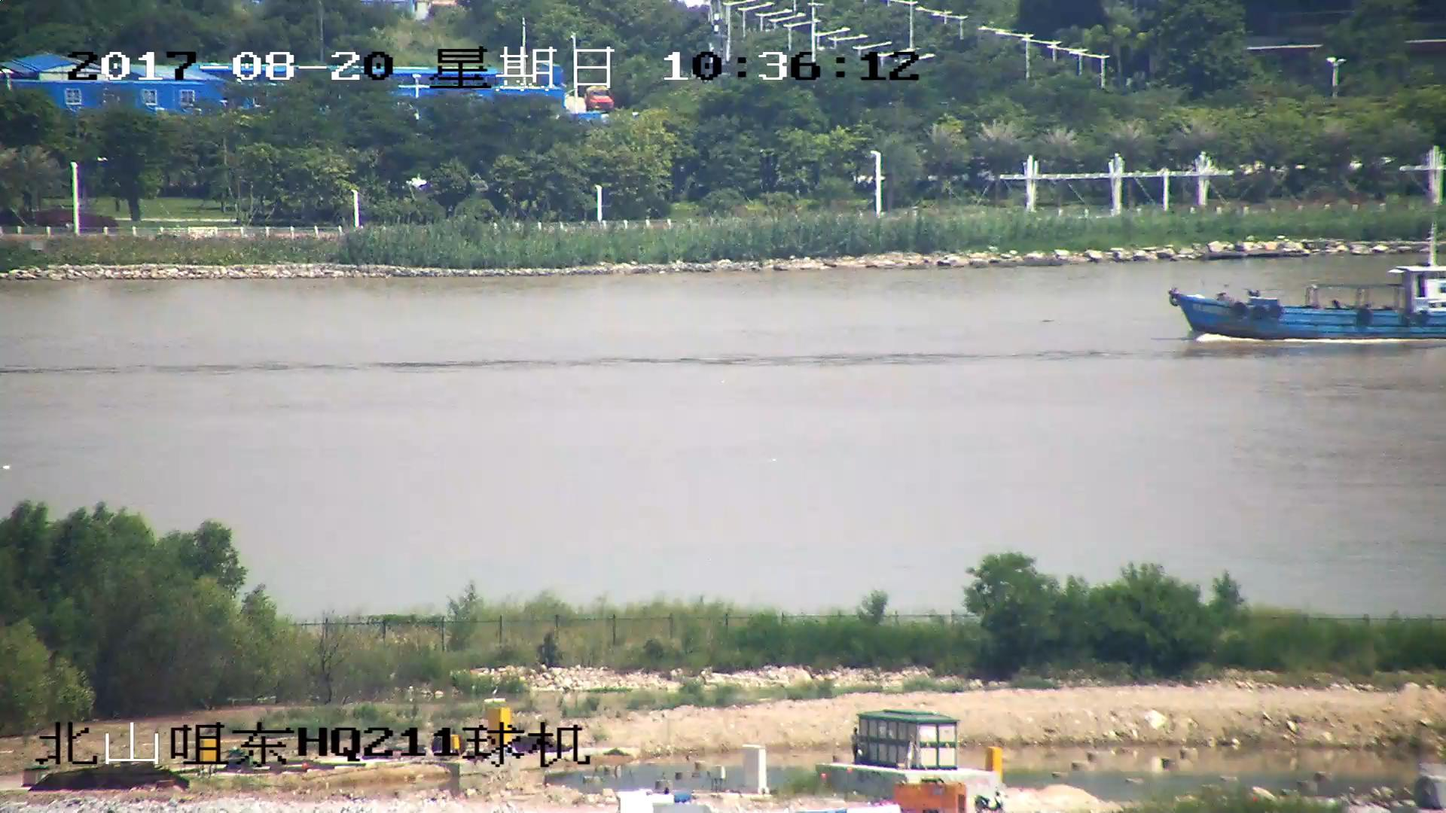fishing boat: (1170, 259, 1445, 341)
